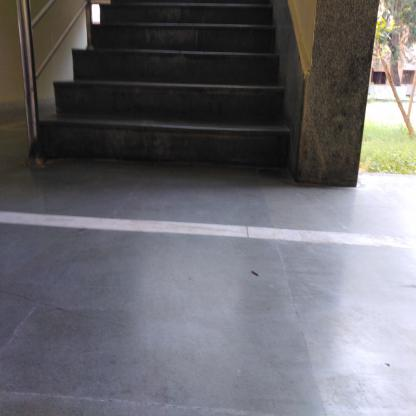stairs: (98, 1, 274, 181)
